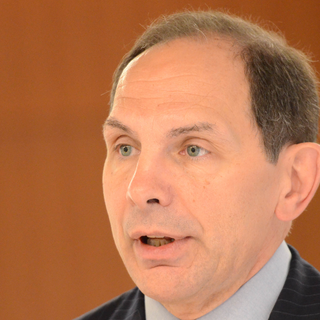eye: (174, 136, 212, 161), (111, 138, 140, 160)
